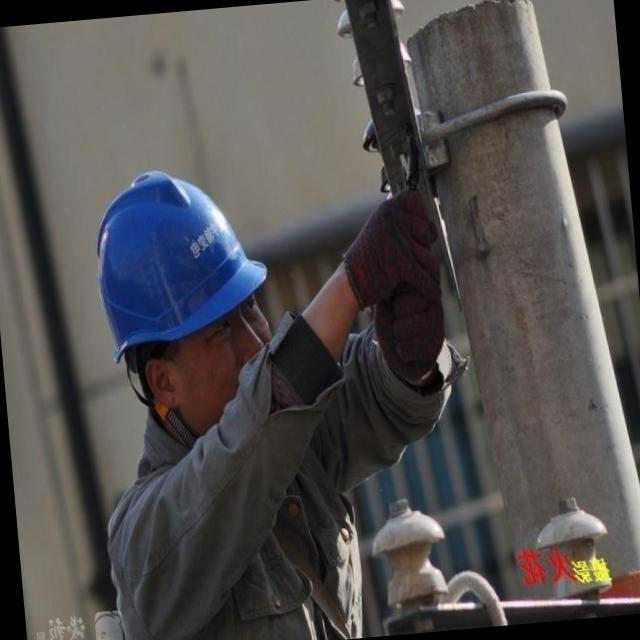helmet: (77, 156, 273, 346)
no-vest: (96, 415, 359, 640)
